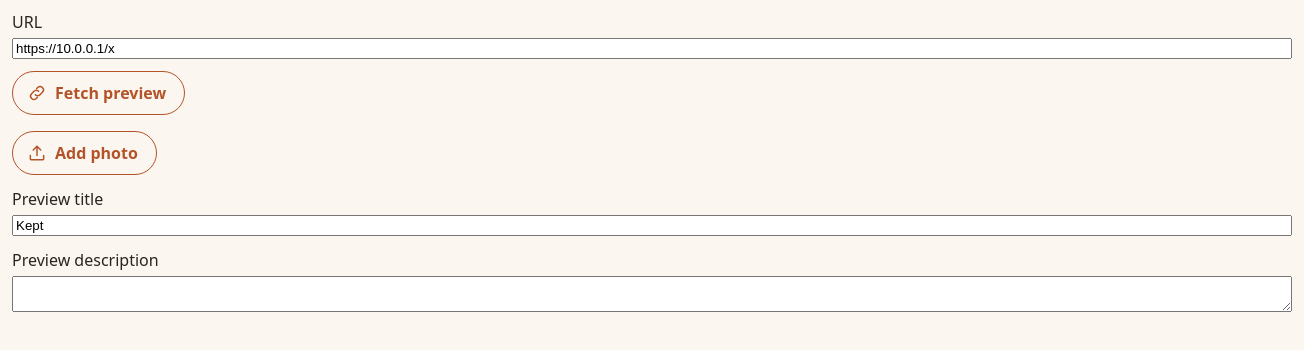
Test: FetchPreview › a null preview reads "No preview available" and changes nothing
Step 1. Click the button "Fetch preview" → (99, 93), box [12, 71, 185, 115]
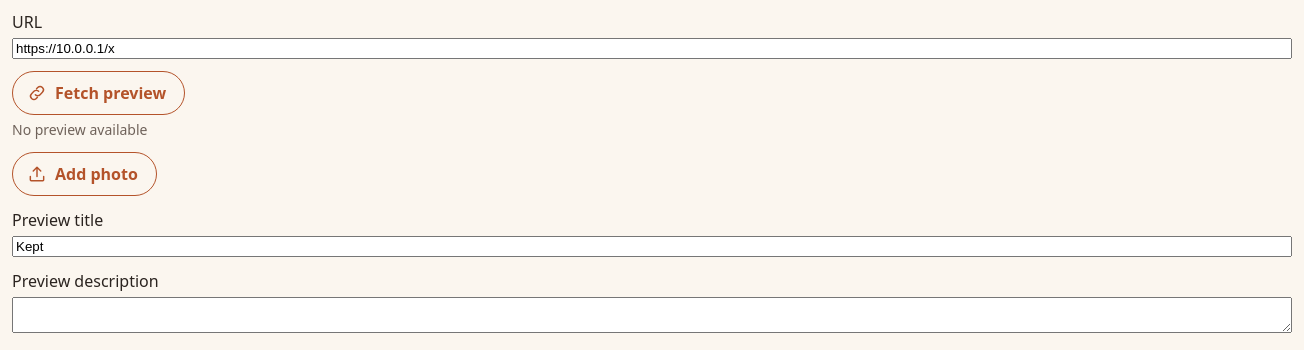
Expected: the text "No preview available" is shown, [12, 120, 148, 139]
